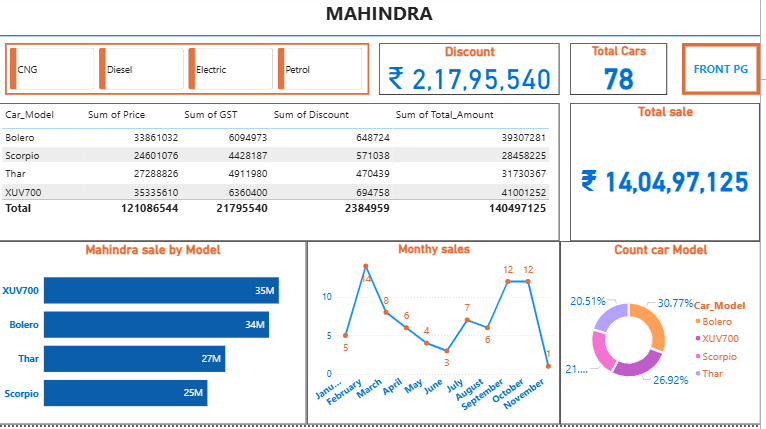

The dashboard page shown, as its layout file describes it:
{"tool":"powerbi","page":{"name":"Mahindra","canvas":[1280,720],"ordinal":4},"visuals":[{"type":"textbox","box":[0,0,1280,65],"z":0},{"type":"barChart","title":"Mahindra sale by Model","fields":{"Category":["car_sales_2025_india_updated.Car_Model"],"Y":["Sum(car_sales_2025_india_updated.Price)"]},"box":[0,411.7,518.3,308.3],"z":1000},{"type":"donutChart","title":"Count car Model","fields":{"Category":["car_sales_2025_india_updated.Car_Model"],"Y":["CountNonNull(car_sales_2025_india_updated.Price)"]},"box":[943.3,411.7,336.7,308.3],"z":2000},{"type":"lineChart","title":"Monthy sales","fields":{"Category":["car_sales_2025_india_updated.Delivery_Date.Variation.Date Hierarchy.Month"],"Y":["Count(car_sales_2025_india_updated.Price)"]},"box":[518.3,411.7,425,308.3],"z":3000},{"type":"tableEx","fields":{"Values":["car_sales_2025_india_updated.Car_Model","Sum(car_sales_2025_india_updated.Price)","Sum(car_sales_2025_india_updated.GST)","Sum(car_sales_2025_india_updated.Discount)","Sum(car_sales_2025_india_updated.Total_Amount)"]},"box":[0,180,943.3,231.7],"z":4000},{"type":"shape","box":[0,10,1280,113.3],"z":5000},{"type":"card","title":"Total Cars","fields":{"Values":["CountNonNull(car_sales_2025_india_updated.Car_Model)"]},"box":[960.8,79,162.9,87.3],"z":6000},{"type":"card","title":"Discount","fields":{"Values":["Sum(car_sales_2025_india_updated.GST)"]},"box":[640,78.3,303.3,86.7],"z":7000},{"type":"card","title":"Total sale","fields":{"Values":["Sum(car_sales_2025_india_updated.Total_Amount)"]},"box":[960.8,179.7,319.2,231.8],"z":9000},{"type":"advancedSlicerVisual","fields":{"Values":["car_sales_2025_india_updated.Fuel_Type"]},"box":[11.7,78.3,611.7,86.7],"z":10000},{"type":"actionButton","box":[1149,79,131,87.3],"z":10001}]}

Visuals, with their boxes in screenshot pixels (x1, y1, x2, y2), scaled from the page's 1280x720 canvas onto the 766x429 screenshot:
textbox: 0:0:765:39
"Mahindra sale by Model" barChart: 0:245:310:428
"Count car Model" donutChart: 565:245:765:428
"Monthy sales" lineChart: 310:245:565:428
tableEx - car_sales_2025_india_updated.Car_Model x Sum(car_sales_2025_india_updated.Price): 0:107:565:245
shape: 0:6:765:73
"Total Cars" card: 575:47:672:99
"Discount" card: 383:47:565:98
"Total sale" card: 575:107:765:245
advancedSlicerVisual - car_sales_2025_india_updated.Fuel_Type: 7:47:373:98
actionButton: 688:47:765:99
